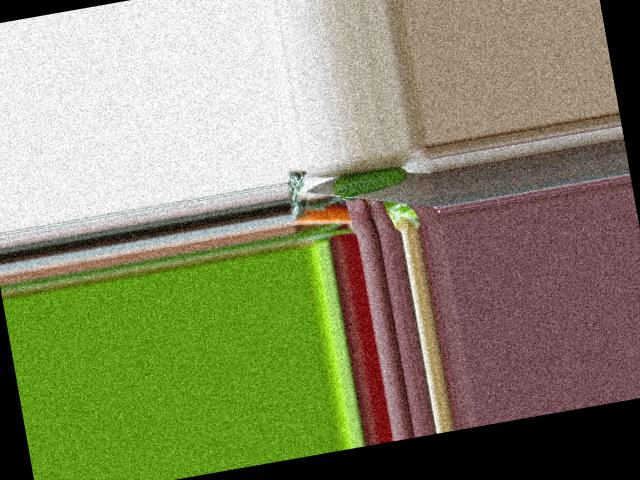cucumber: (330, 163, 408, 199)
